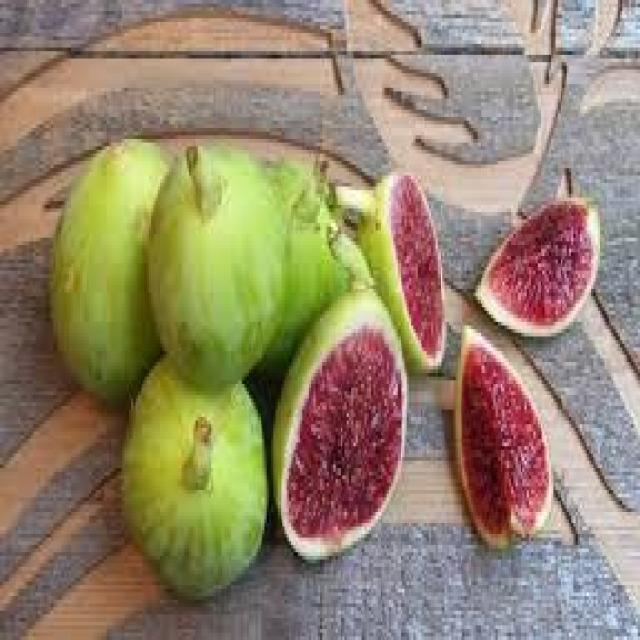organic waste: (266, 278, 406, 563), (118, 347, 266, 600), (146, 135, 286, 384), (47, 136, 171, 402), (255, 157, 369, 380), (453, 318, 551, 549), (334, 168, 444, 370), (471, 190, 598, 333)
